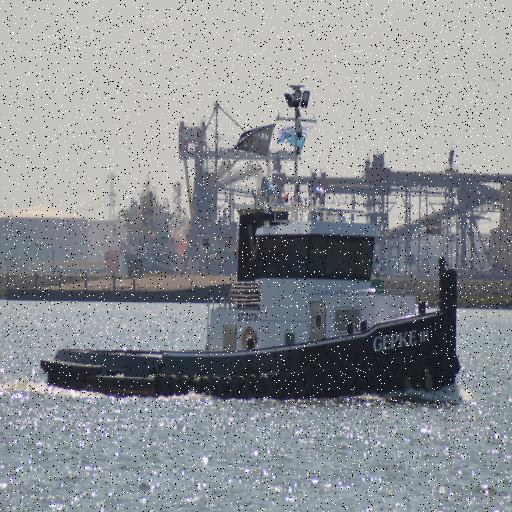tugboat: (37, 80, 466, 424)
